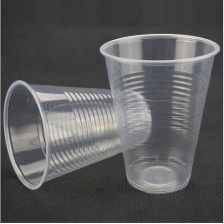glass: (96, 29, 224, 201), (0, 76, 157, 193)
